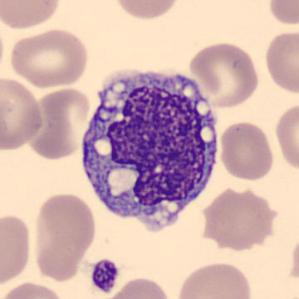Monocyte: (75, 58, 224, 238)
Platelets: (88, 258, 120, 296)
RBC: (30, 189, 98, 282), (186, 38, 262, 110), (6, 26, 91, 89), (25, 85, 92, 160), (202, 189, 276, 250), (217, 119, 276, 182), (0, 76, 45, 152), (173, 258, 256, 299), (0, 211, 34, 289), (262, 28, 298, 95), (95, 274, 176, 299), (0, 0, 63, 31), (273, 99, 298, 174), (111, 0, 184, 21), (0, 279, 69, 299), (266, 0, 299, 27), (0, 19, 7, 81)
